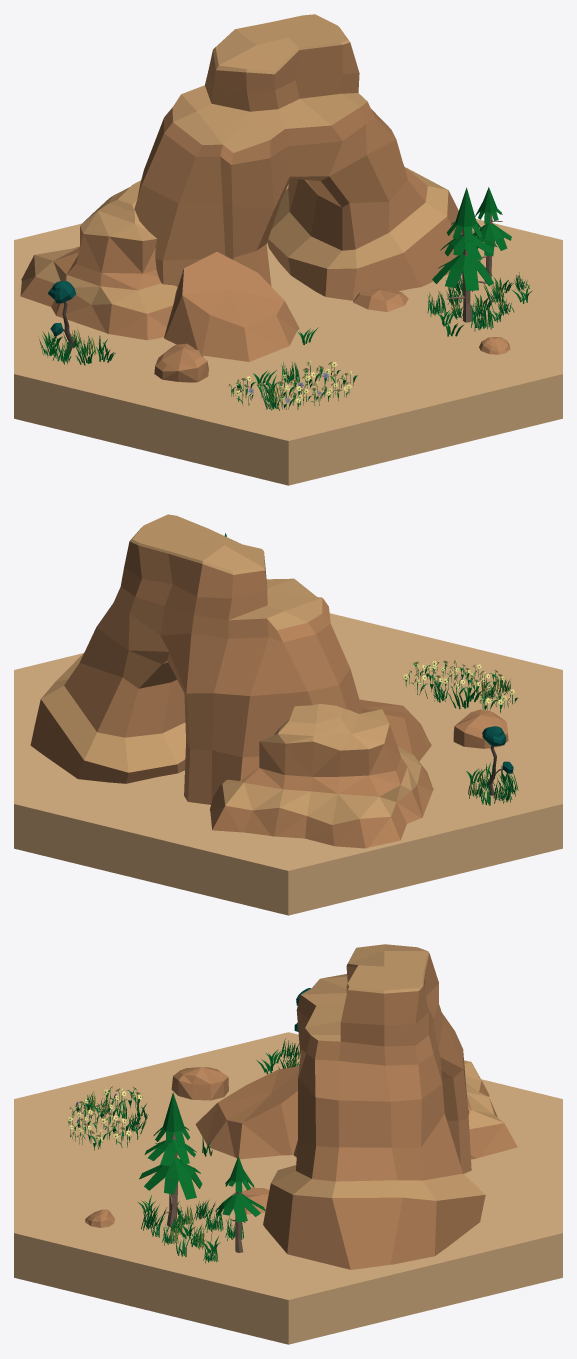
File: Tile_24.fbx
3 renders of one model, top to bottom at view 1: azimuth 30°, elevation 25°; view 2: azimuth 150°, elevation 25°; view 3: azimuth 270°, elevation 25°, orthographic.
Parts seen in each view (by area): view 1: Tile_24_Mountain, Tile_24_Base, Tile_24, Tile_24_Meadow, Tile_24_Tree; view 2: Tile_24_Mountain, Tile_24_Base, Tile_24_Meadow, Tile_24, Tile_24_Tree; view 3: Tile_24_Base, Tile_24_Mountain, Tile_24, Tile_24_Meadow.
Part boxes in pixels (x1=…): Tile_24_Mountain: x1=20, y1=14, x2=462, y2=361; Tile_24_Base: x1=14, y1=184, x2=562, y2=485; Tile_24: x1=39, y1=187, x2=531, y2=382; Tile_24_Meadow: x1=228, y1=360, x2=357, y2=410; Tile_24_Tree: x1=48, y1=281, x2=76, y2=353; Tile_24_Mountain: x1=30, y1=514, x2=433, y2=848; Tile_24_Base: x1=14, y1=613, x2=562, y2=915; Tile_24_Meadow: x1=402, y1=659, x2=518, y2=712; Tile_24: x1=224, y1=533, x2=518, y2=805; Tile_24_Tree: x1=482, y1=726, x2=513, y2=795; Tile_24_Base: x1=14, y1=1032, x2=562, y2=1344; Tile_24_Mountain: x1=195, y1=944, x2=517, y2=1269; Tile_24: x1=85, y1=1038, x2=299, y2=1263; Tile_24_Meadow: x1=67, y1=1084, x2=148, y2=1150.
Size of the model in its own units: 2318 by 2007 by 1079.
